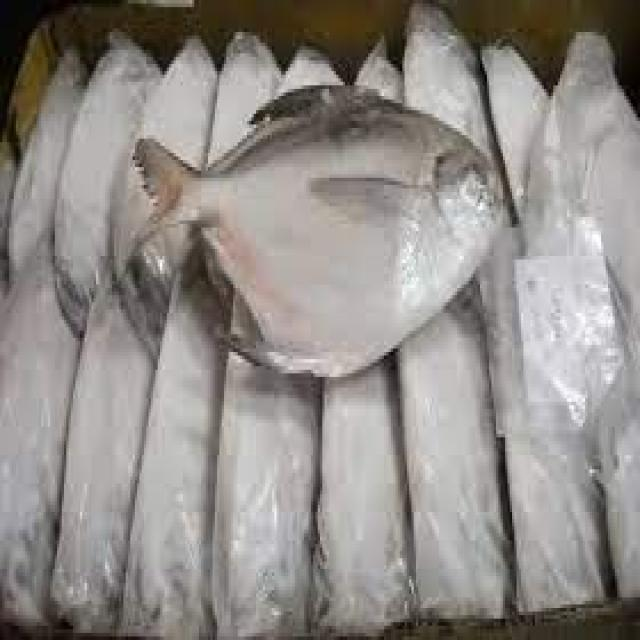pomfred: (130, 80, 511, 378)
